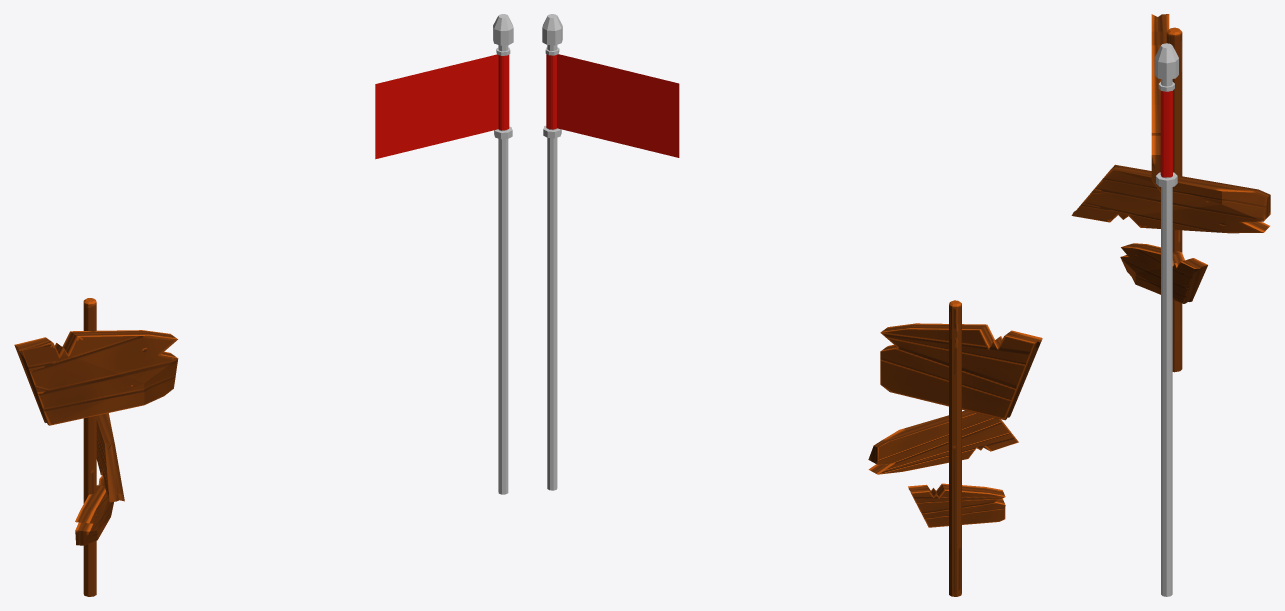
The model's file is forestSignandFlagPole.fbx.
3 views of the same model, side by side, from view 1: azimuth 30°, elevation 25°; view 2: azimuth 150°, elevation 25°; view 3: azimuth 270°, elevation 25° (orthographic). The views are drawn at different scales.
Visible parts, largest first — view 1: sign, flag, flagpole; view 2: sign, flag, flagpole; view 3: sign, flagpole, flag.
Boxes of the visible parts, left/top/right/bottom form: sign: left=14, top=298, right=178, bottom=596; flag: left=375, top=54, right=509, bottom=159; flagpole: left=493, top=14, right=513, bottom=494; sign: left=868, top=300, right=1042, bottom=596; flag: left=546, top=54, right=679, bottom=157; flagpole: left=542, top=14, right=562, bottom=490; sign: left=1071, top=14, right=1270, bottom=372; flagpole: left=1154, top=43, right=1178, bottom=596; flag: left=1160, top=91, right=1172, bottom=177.
Bounding box in the file's own units: 459 × 424 × 138.
